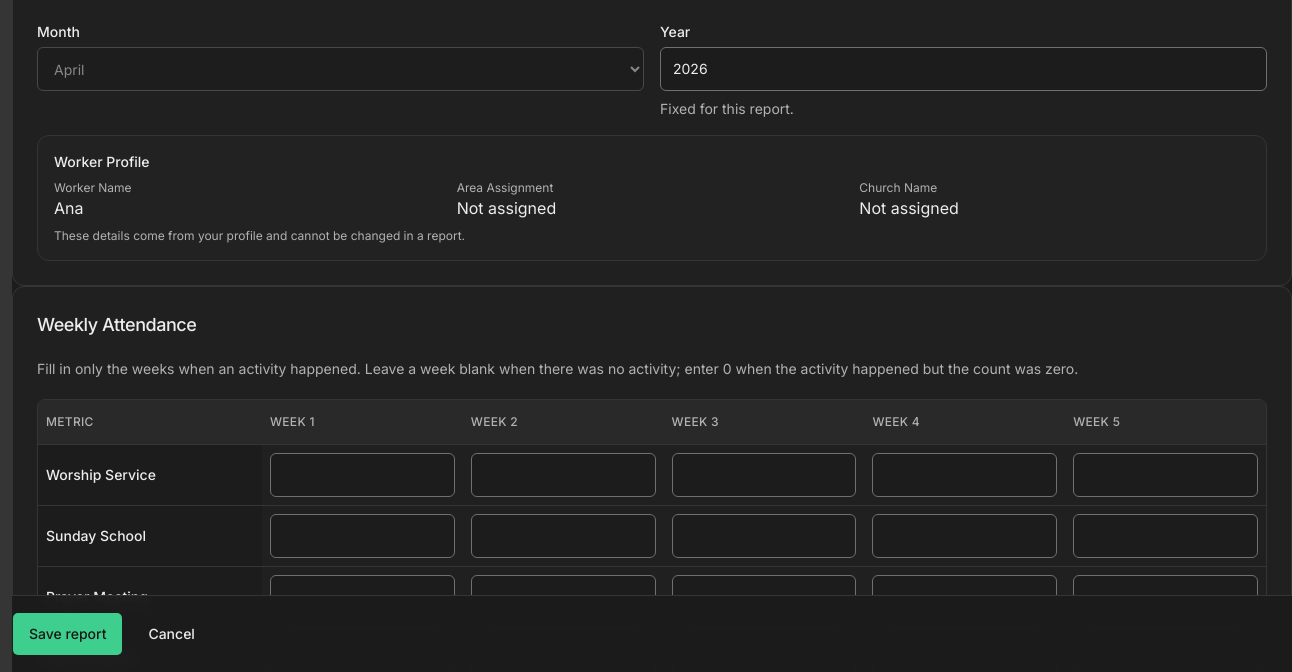
Test: ReportForm › a field error and the help line both describe the field
Click the button "Save report" at (68, 634), box [12,612,123,656]
(page scrolled)
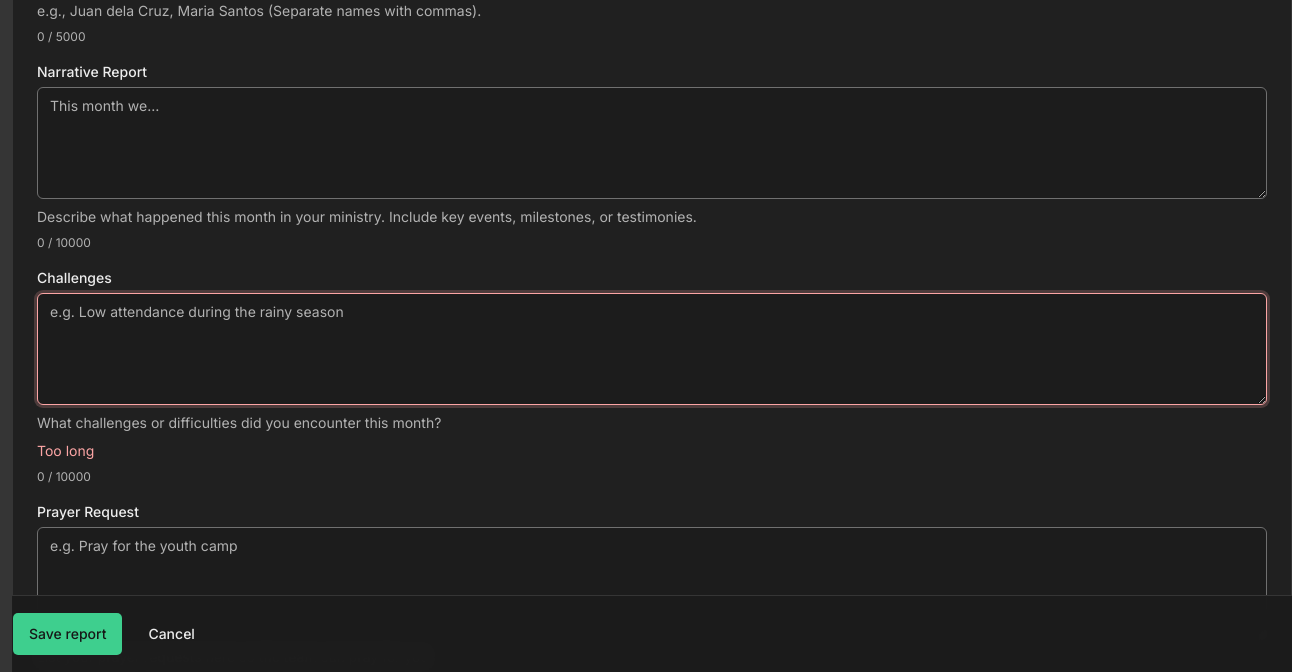
Expected: the text "Too long" is shown, [37,442,94,459]
